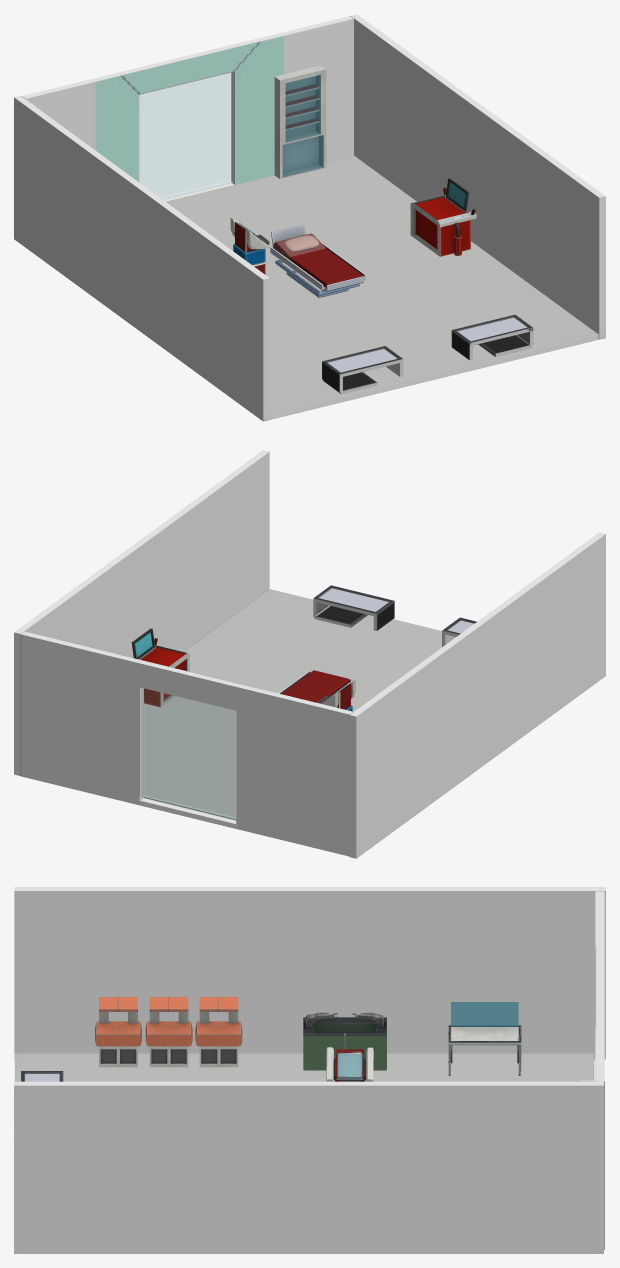
File: Fase1Textura.fbx
3 views of the same model, one above another, from view 1: azimuth 30°, elevation 25°; view 2: azimuth 150°, elevation 25°; view 3: azimuth 270°, elevation 25° (orthographic). The views are drawn at different scales.
Visible parts, largest first — view 1: PAREDE_TRAS1, PORTA, ARMARIO, MACA, MESA_C, MESA_TIPO2, MESA_TIPO1, HUD; view 2: PAREDE_TRAS1, PORTA, MESA_TIPO2, MESA_C, MACA, HUD; view 3: PAREDE_TRAS1, MESA_M, MESA3, MESA_U1, MESA_U2, MESA_U3, HUD.
Part boxes in pixels (bbox=[...]): PAREDE_TRAS1: bbox=[14, 14, 605, 421]; PORTA: bbox=[139, 72, 234, 199]; ARMARIO: bbox=[274, 65, 326, 178]; MACA: bbox=[270, 223, 365, 297]; MESA_C: bbox=[410, 178, 476, 256]; MESA_TIPO2: bbox=[451, 314, 533, 360]; MESA_TIPO1: bbox=[322, 346, 403, 394]; HUD: bbox=[230, 218, 269, 274]; PAREDE_TRAS1: bbox=[14, 450, 605, 858]; PORTA: bbox=[141, 688, 235, 820]; MESA_TIPO2: bbox=[313, 585, 394, 630]; MESA_C: bbox=[131, 628, 189, 707]; MACA: bbox=[278, 670, 351, 702]; HUD: bbox=[317, 679, 355, 711]; PAREDE_TRAS1: bbox=[14, 887, 605, 1253]; MESA_M: bbox=[303, 1012, 386, 1070]; MESA3: bbox=[448, 1002, 521, 1075]; MESA_U1: bbox=[195, 996, 242, 1067]; MESA_U2: bbox=[145, 996, 192, 1067]; MESA_U3: bbox=[95, 996, 141, 1067]; HUD: bbox=[326, 1047, 373, 1081].
Size of the model in its own units: 19.43 by 7.7 by 24.49.
11 materials, 9 textured.
